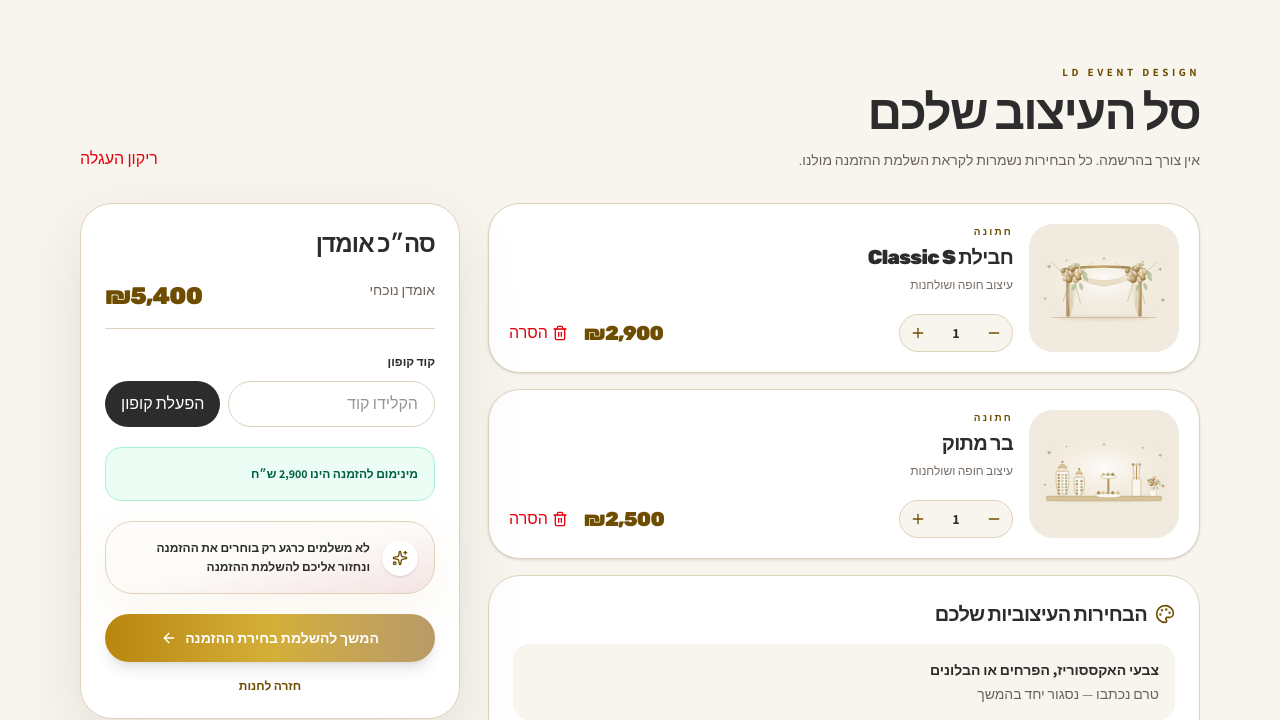
Test: CartPage › removes an item and clears all items
This screenshot has width=1280, height=720.
Click the button "הסרה" next to "₪2,900": [538, 333] box [509,321,568,345]
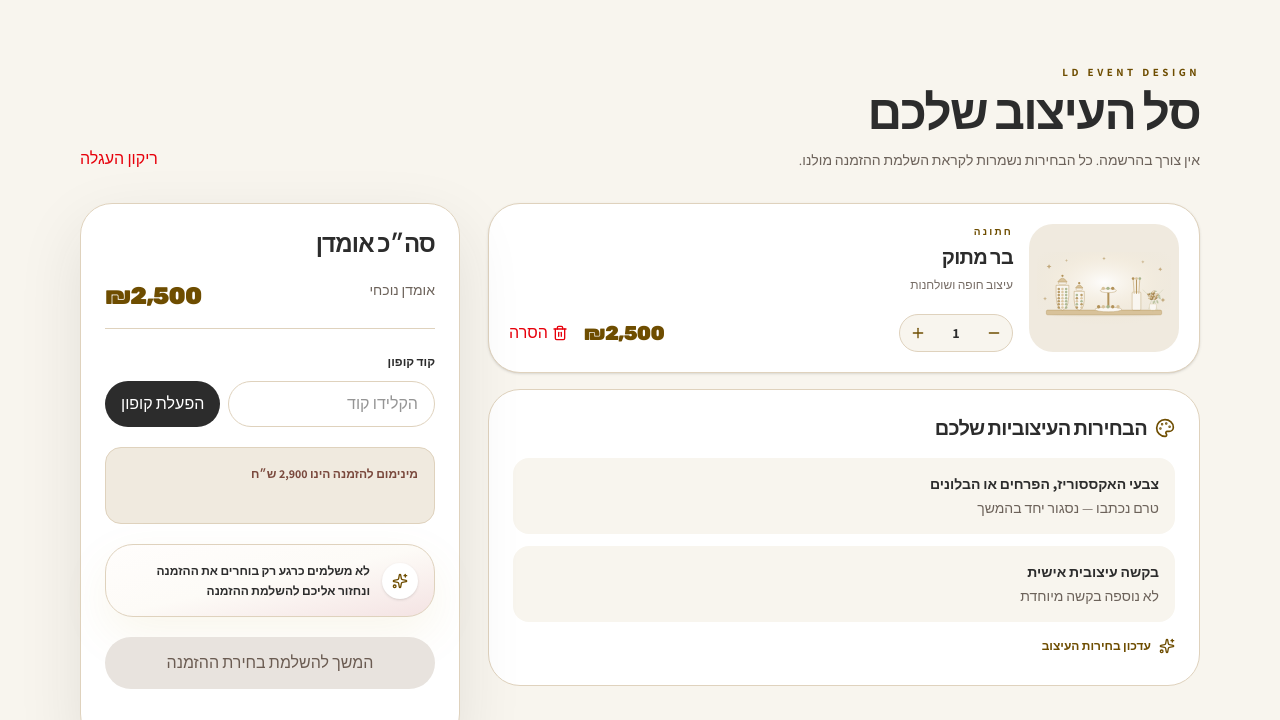
Expected: the heading "בר מתוק" is shown, [942,245,1013,269]
Expected: the heading "חבילת Classic S" is gone
Click the button "ריקון העגלה": [119, 159] box [80,147,158,171]
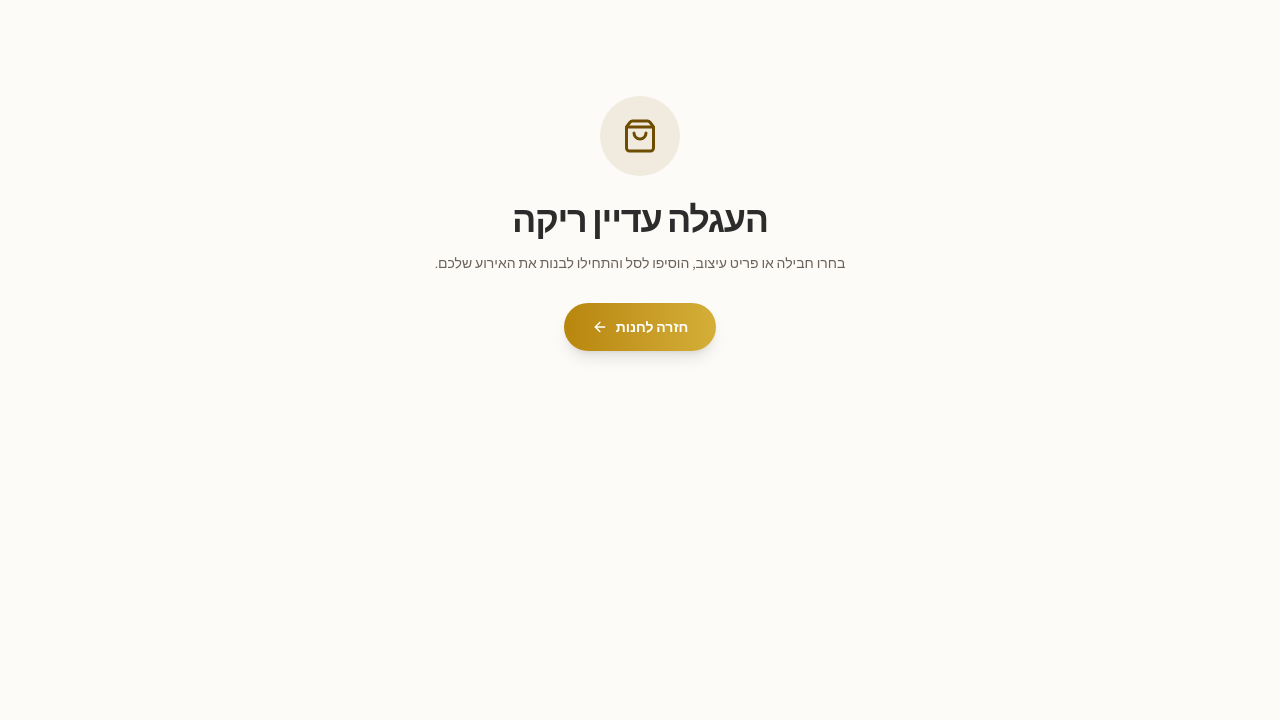
Expected: the heading "העגלה עדיין ריקה" is shown, [512,198,768,241]
